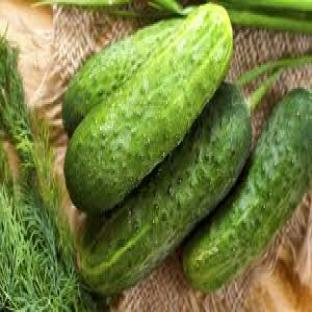Cucumber: (78, 86, 251, 295), (65, 4, 232, 213), (183, 90, 311, 291), (63, 19, 182, 135)
